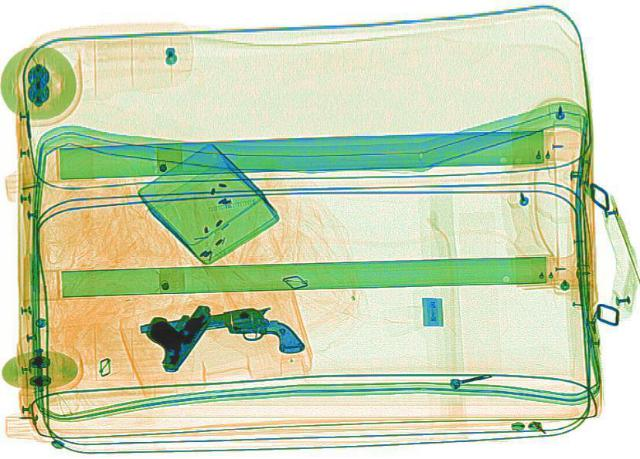Gun: (124, 297, 308, 378), (118, 291, 238, 372)
